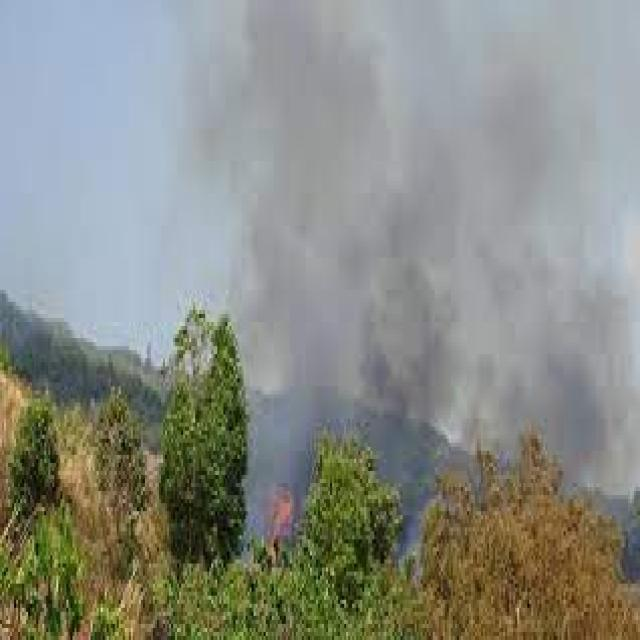Fire: (252, 473, 308, 551)
Smoke: (255, 26, 579, 459)
